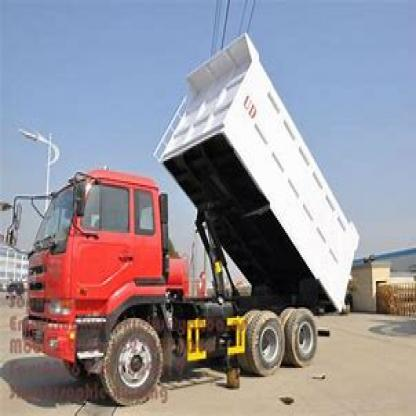dump_truck: (17, 32, 362, 402)
